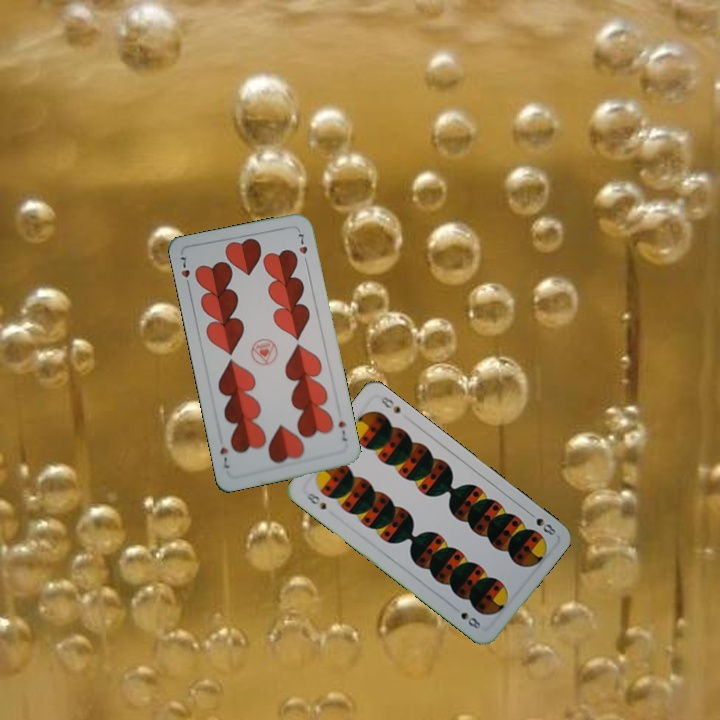H7: (176, 253, 193, 291), (334, 417, 349, 444)
S8: (524, 507, 559, 538), (302, 489, 329, 512)
